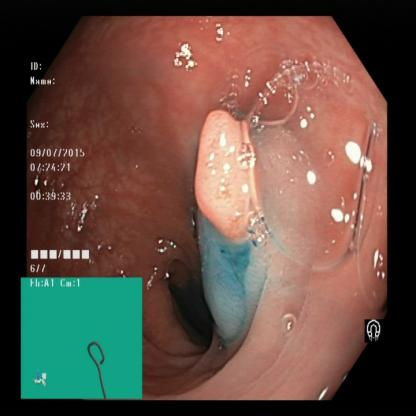Labels: (28, 60, 98, 276), (22, 279, 142, 399), (356, 306, 395, 354)
Polyps: (196, 93, 263, 344)
